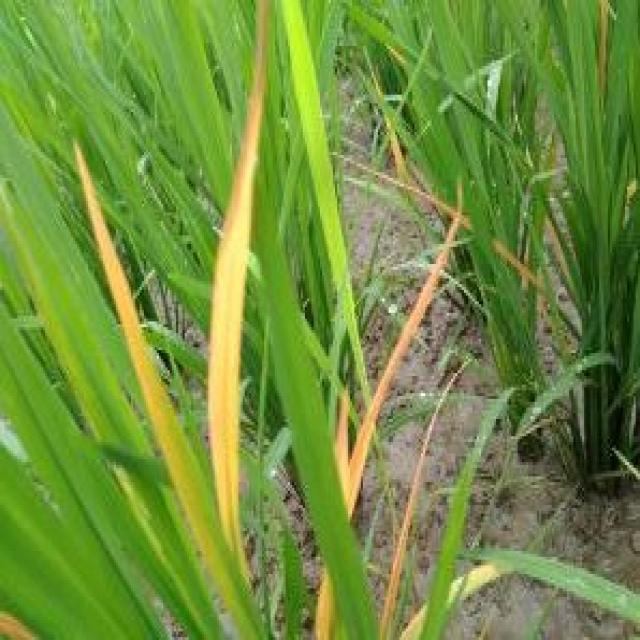Rice Tungro: (194, 215, 251, 552), (67, 171, 143, 329), (408, 254, 450, 340)
